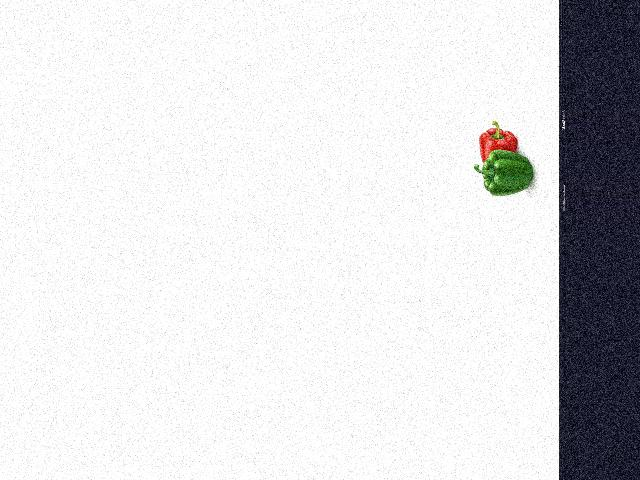bell_pepper: (474, 121, 516, 164)
